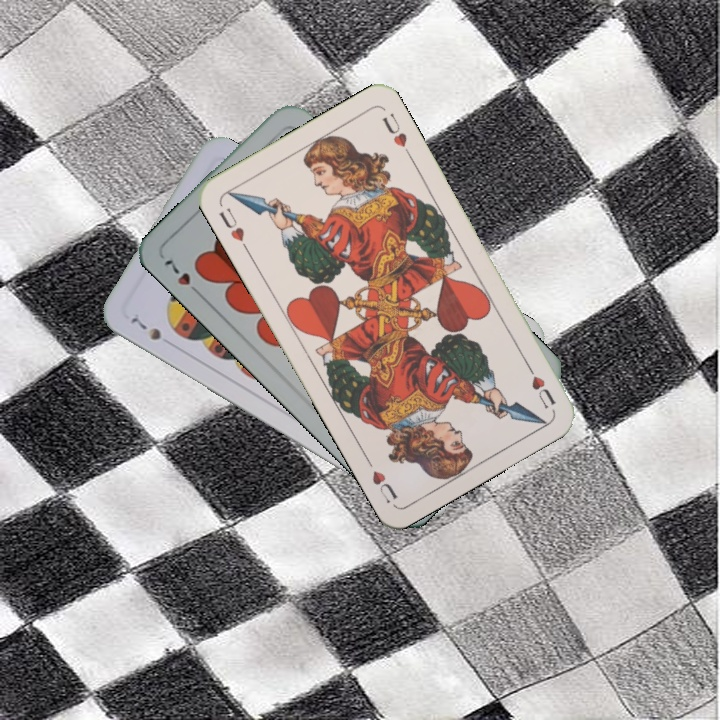H7: (159, 255, 205, 300)
HU: (521, 359, 559, 412), (214, 203, 252, 254)
S7: (127, 313, 164, 343)
